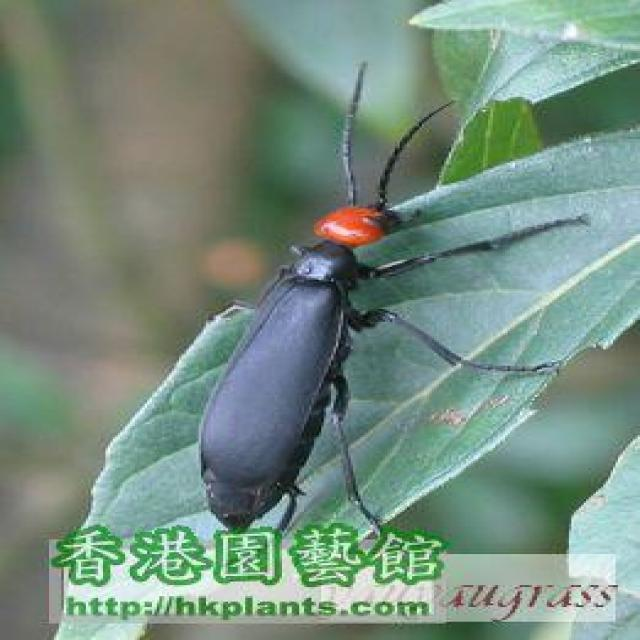BlisterBeetle-Adult-: (175, 41, 587, 536)
